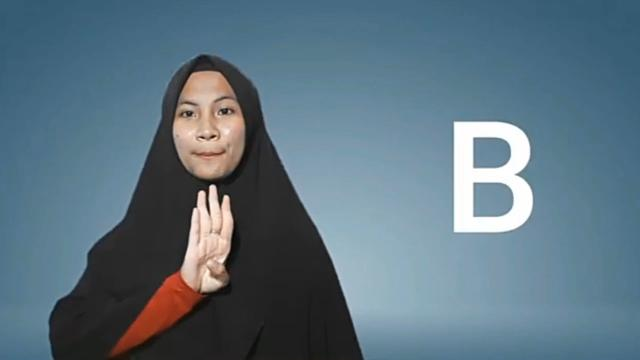B: (185, 185, 238, 300)
